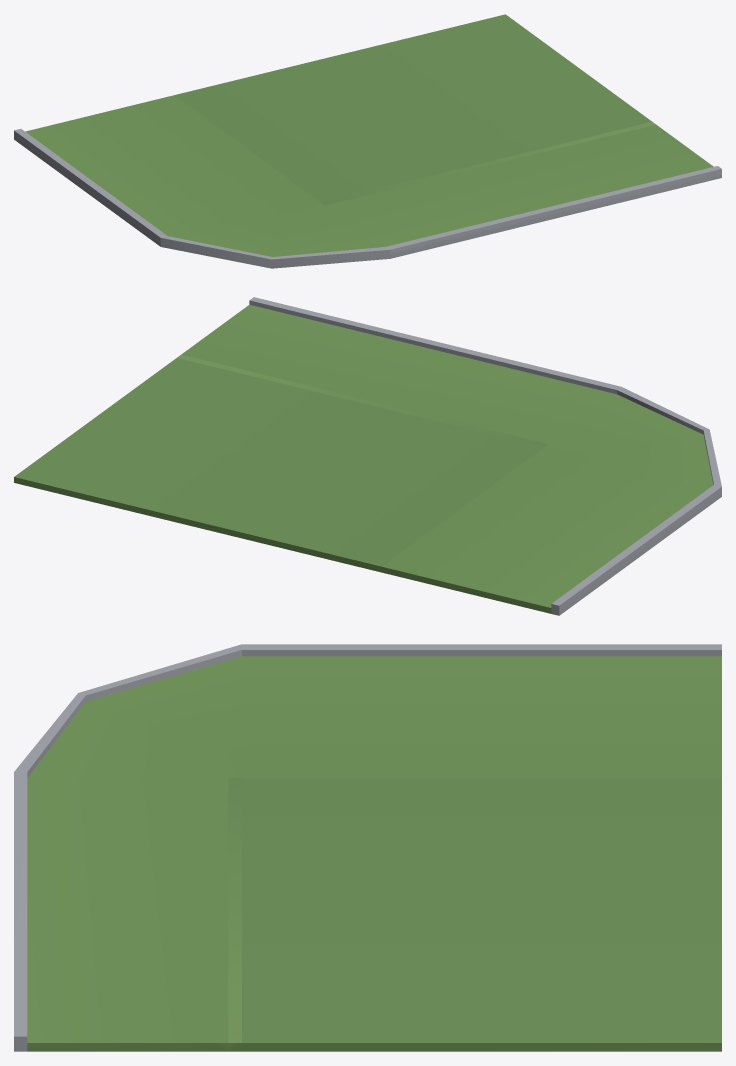
File: sidewalk_44.fbx
3 views of the same model, one above another, from view 1: azimuth 30°, elevation 25°; view 2: azimuth 150°, elevation 25°; view 3: azimuth 270°, elevation 25° (orthographic). The views are drawn at different scales.
Visible parts, largest first — view 1: sidewalk_43; view 2: sidewalk_43; view 3: sidewalk_43.
Part boxes in pixels (left/top/right/bottom): sidewalk_43: left=14, top=14, right=721, bottom=268; sidewalk_43: left=14, top=297, right=721, bottom=615; sidewalk_43: left=14, top=644, right=721, bottom=1051.
Size of the model in its own units: 1.34 by 0.0237 by 1.02.
1 material, 1 textured.
